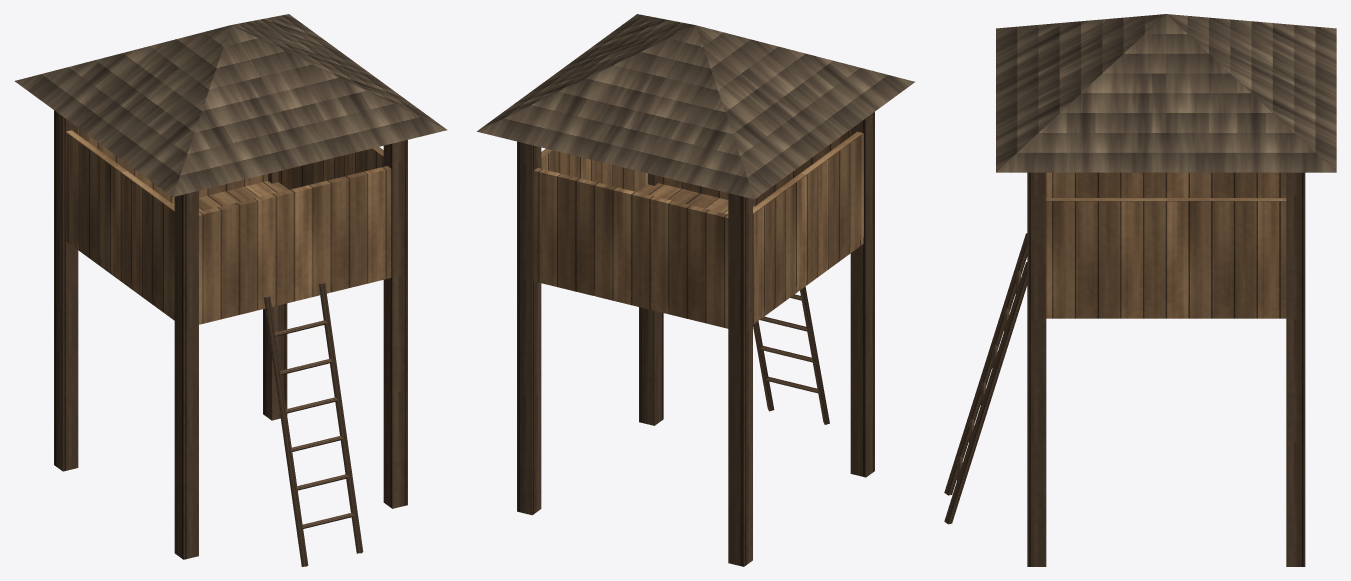
File: Watchpost_Wood_1_LOD1.gltf
3 views of the same model, side by side, from view 1: azimuth 30°, elevation 25°; view 2: azimuth 150°, elevation 25°; view 3: azimuth 270°, elevation 25° (orthographic). The views are drawn at different scales.
Parts seen in each view (by area): view 1: Watchpost_Wood_1_LOD1; view 2: Watchpost_Wood_1_LOD1; view 3: Watchpost_Wood_1_LOD1.
Part boxes in pixels (<box>): Watchpost_Wood_1_LOD1: <box>14,14,447,566</box>; Watchpost_Wood_1_LOD1: <box>477,14,914,566</box>; Watchpost_Wood_1_LOD1: <box>944,14,1336,566</box>.
Size of the model in its own units: 2.5 by 4.01 by 2.88.
Materials: 3 (3 with a texture image).
